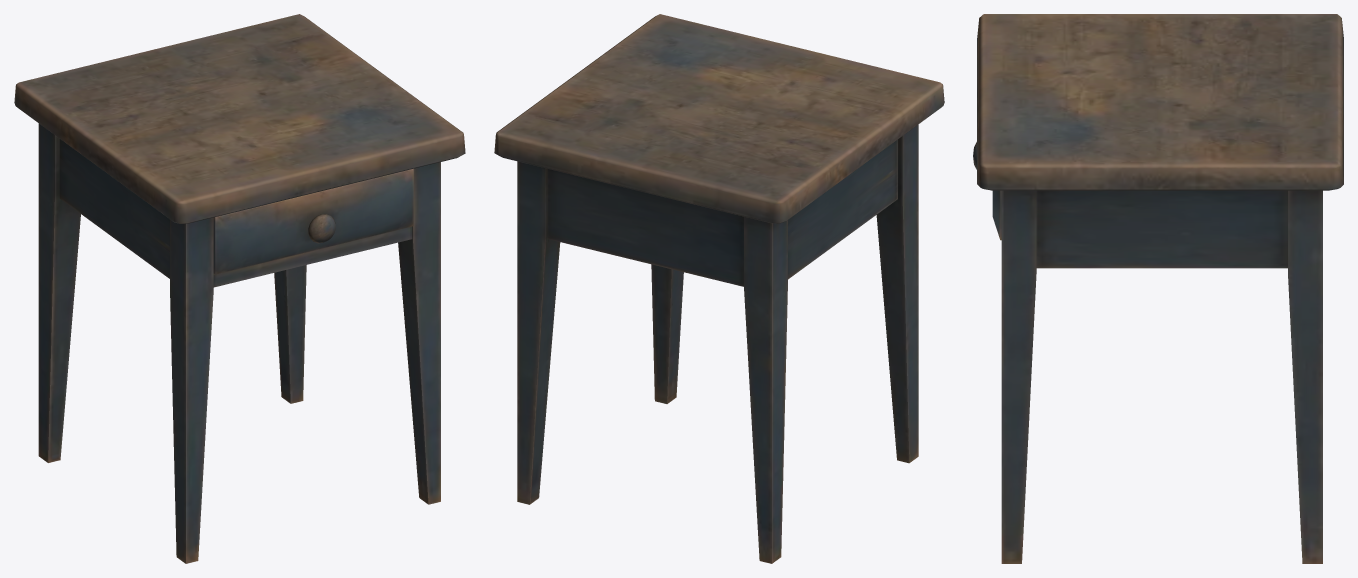
The model's file is painted_wooden_nightstand.glb.
3 renders of one model, left to right at view 1: azimuth 30°, elevation 25°; view 2: azimuth 150°, elevation 25°; view 3: azimuth 270°, elevation 25°, orthographic. The views are drawn at different scales.
Visible parts, largest first — view 1: painted_wooden_nightstand; view 2: painted_wooden_nightstand; view 3: painted_wooden_nightstand.
Part boxes in pixels (<box>): painted_wooden_nightstand: <box>14,14,465,563</box>; painted_wooden_nightstand: <box>494,14,944,563</box>; painted_wooden_nightstand: <box>973,14,1343,563</box>.
Bounding box in the file's own units: 0.5045 × 0.6155 × 0.5087.
1 material, 1 textured.
